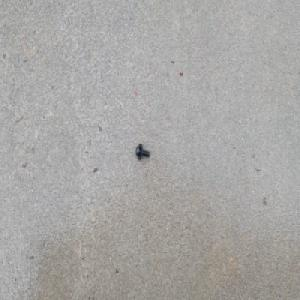BoltWasher: (135, 143, 150, 161)
